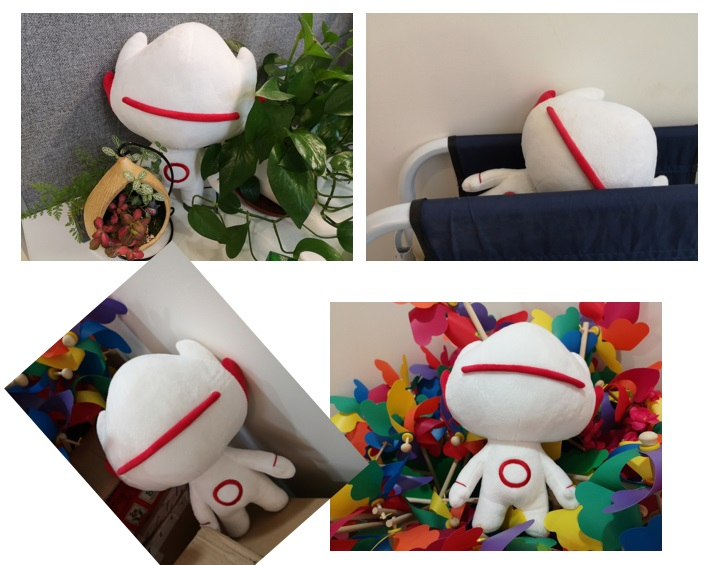yunbao: (81, 346, 306, 535), (420, 323, 610, 533), (462, 66, 676, 222), (106, 26, 272, 203)
